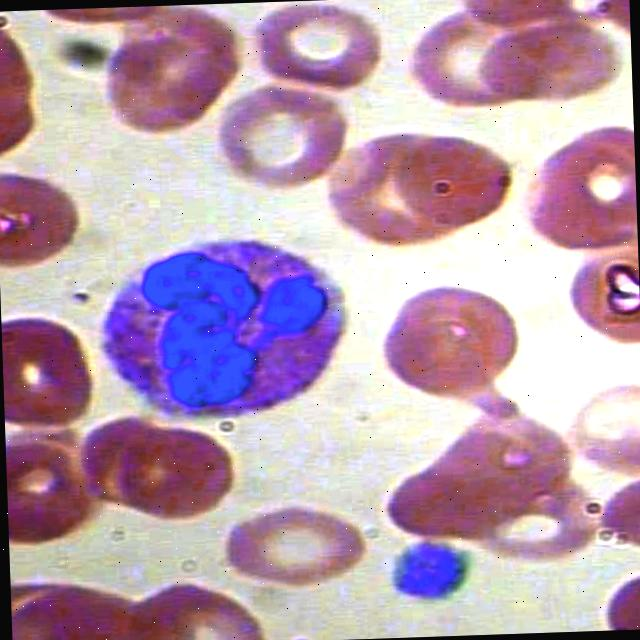Platelets: (382, 538, 474, 614)
RBC: (368, 284, 526, 419), (200, 82, 352, 198), (509, 124, 637, 255), (90, 32, 232, 146), (213, 496, 369, 594), (234, 0, 381, 100), (380, 130, 513, 233), (476, 17, 618, 109), (111, 424, 232, 530), (0, 313, 102, 433), (557, 231, 640, 366), (5, 435, 89, 548), (0, 165, 79, 278), (562, 381, 640, 480), (587, 475, 640, 561)
WBC: (90, 228, 365, 429)
